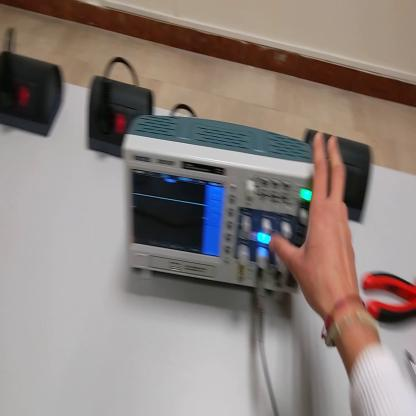hand: (269, 129, 361, 320)
oscilloscope: (119, 115, 312, 307)
pliers: (364, 267, 416, 326)
screwdriver-: (407, 348, 416, 381)
socket: (1, 51, 69, 136), (88, 75, 157, 157)
